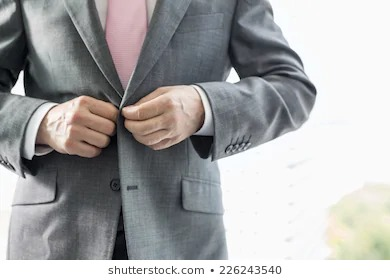F_M_suit jacket: (1, 1, 320, 259)
